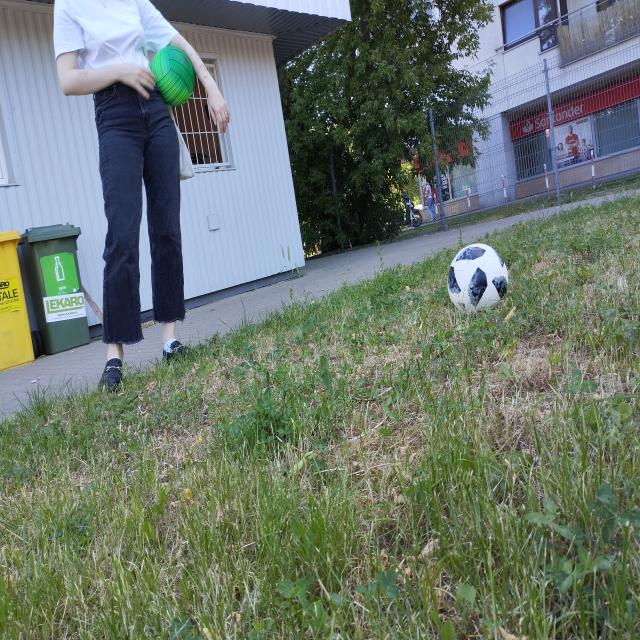nozna: (447, 243, 508, 316)
zielona: (151, 45, 194, 107)
